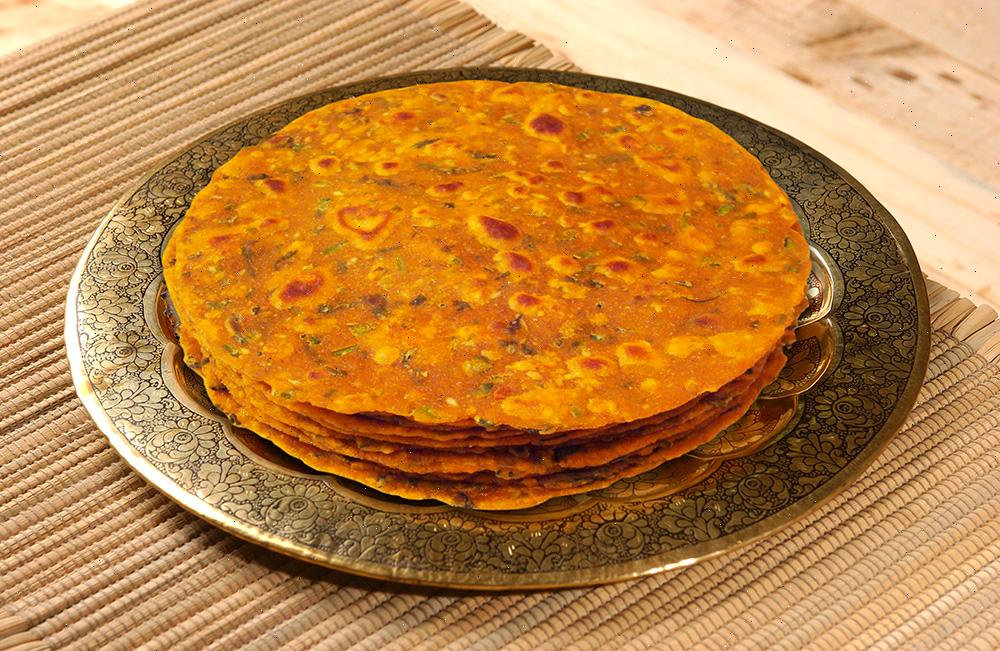thepla: (158, 77, 810, 514)
